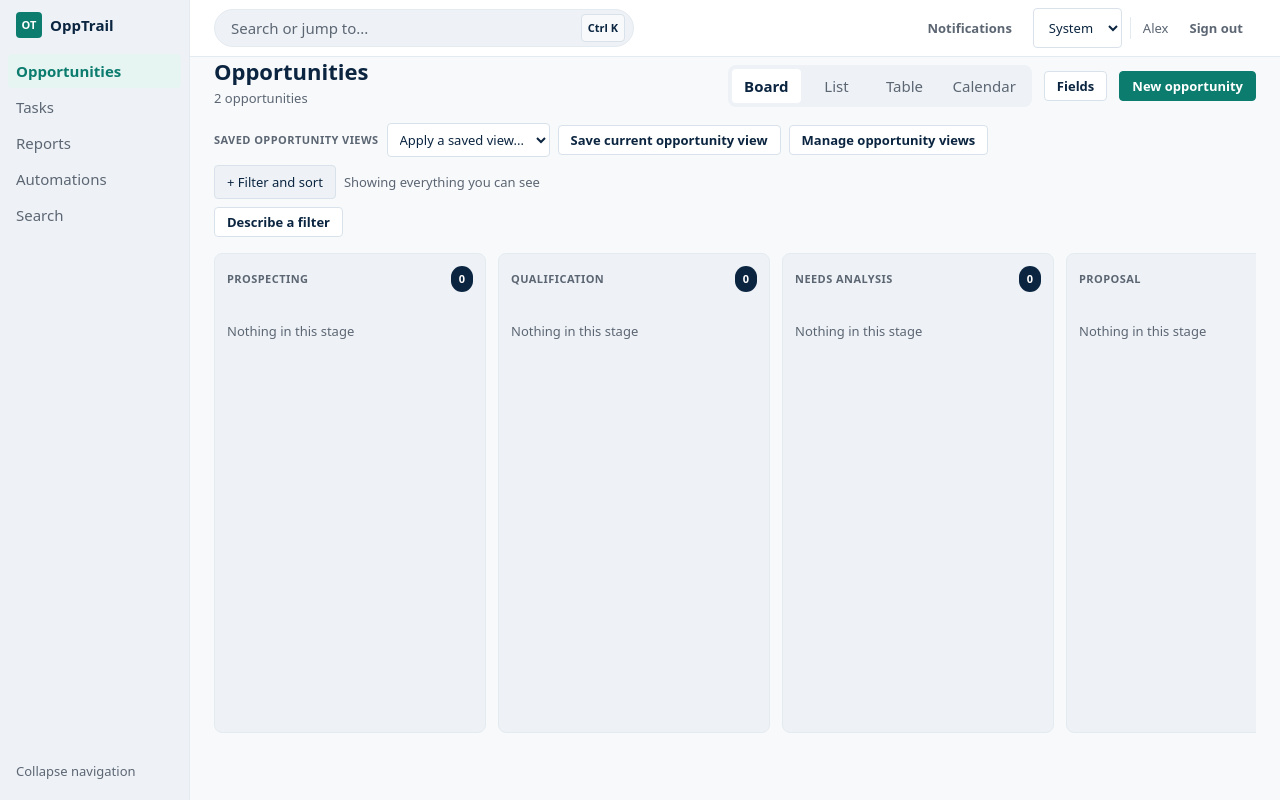
it: every field type is filterable from the board (R.1) › offers a text box for a text field and a yes/no for a checkbox
The image size is (1280, 800).
Check: the heading "Opportunities" is shown, box left=214, top=57, right=368, bottom=85
Click the button "+ Filter and sort": {"x": 275, "y": 182} left=214, top=165, right=336, bottom=199
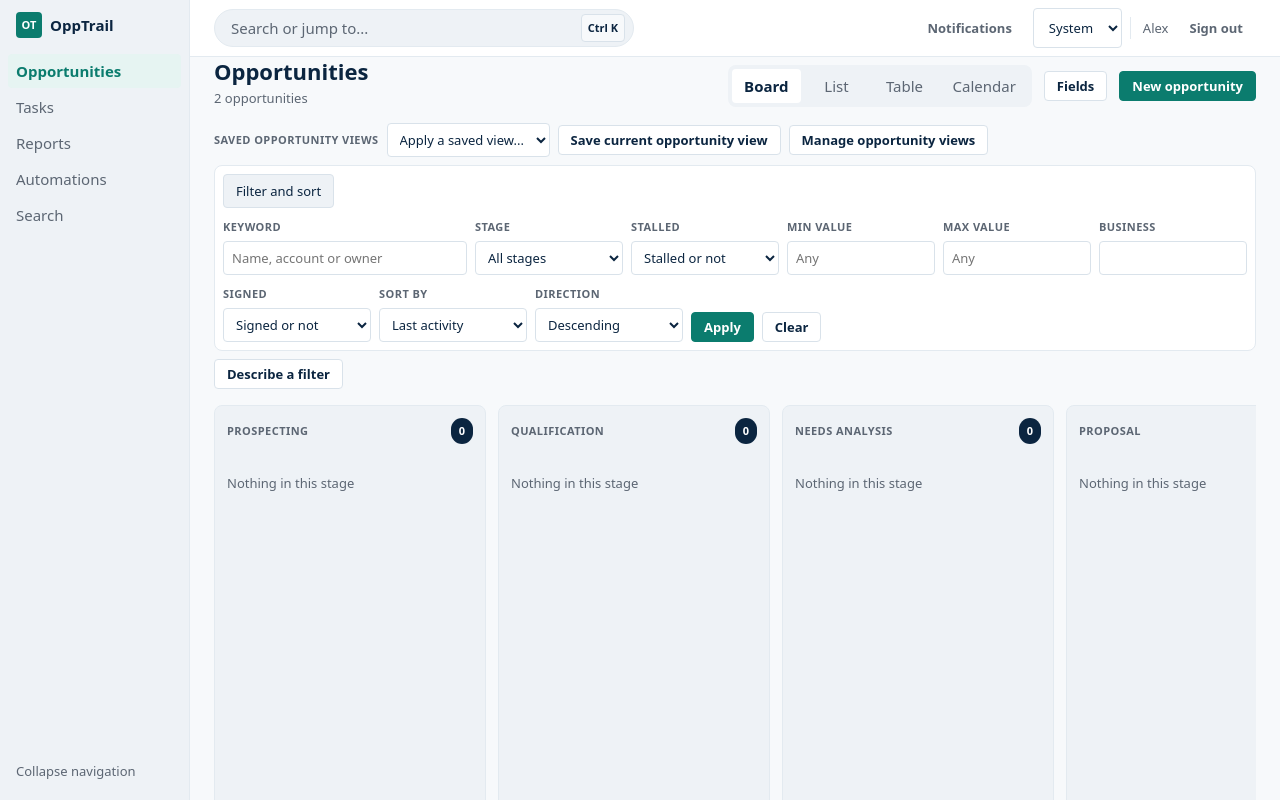
Check: the field named "Filter opportunities by keyword" is shown, box left=223, top=241, right=467, bottom=275
In the field named "Filter by Business": {"x": 1173, "y": 258} left=1099, top=241, right=1247, bottom=275, type "ctcs"
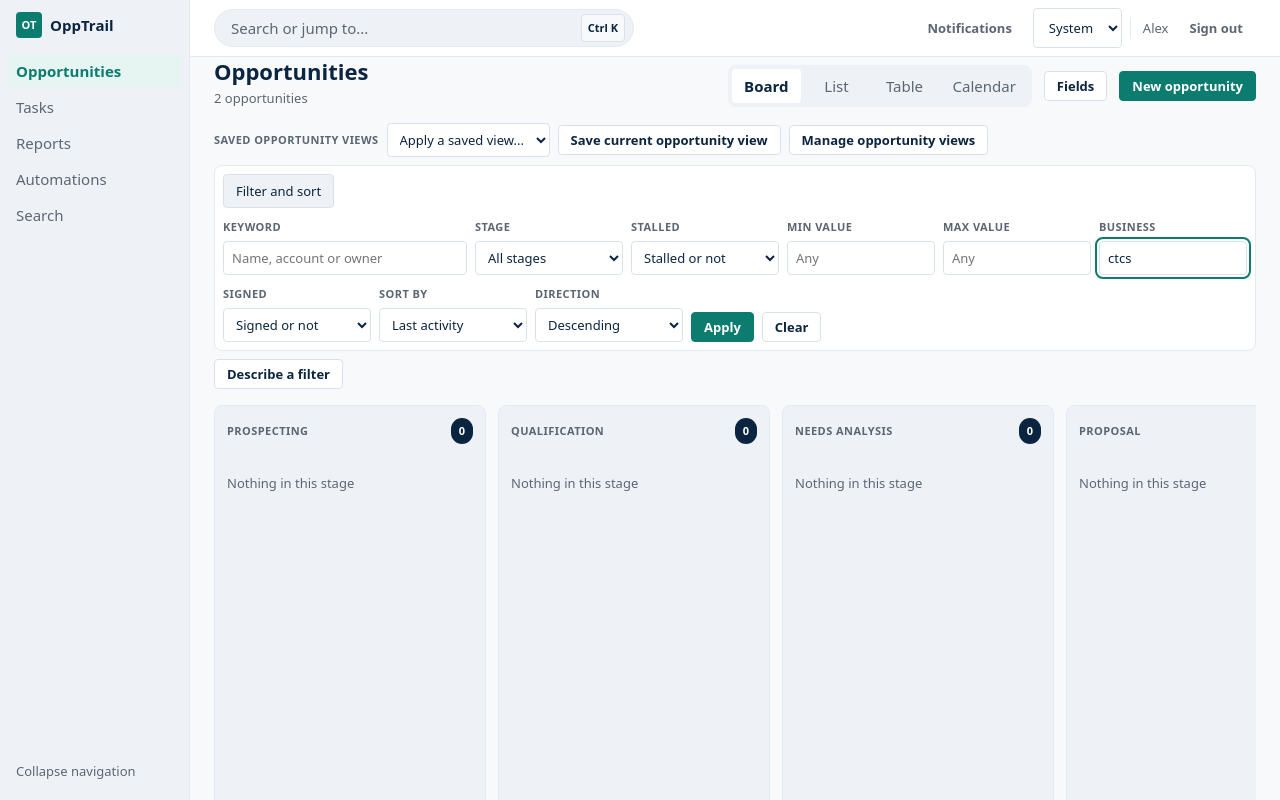
Select "Yes" in the dropdown named "Filter by Signed": {"x": 297, "y": 325} left=223, top=308, right=371, bottom=342
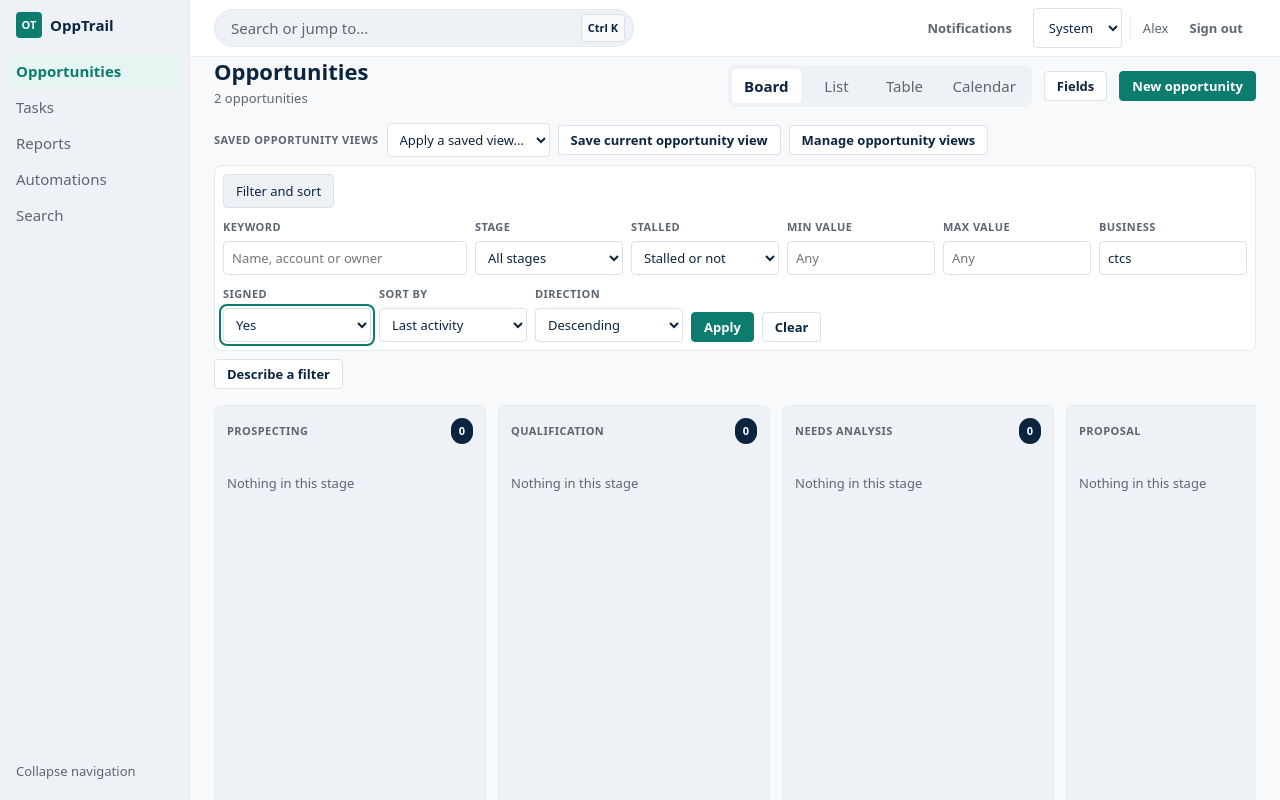
Click the button "Apply": {"x": 722, "y": 327} left=691, top=312, right=754, bottom=342
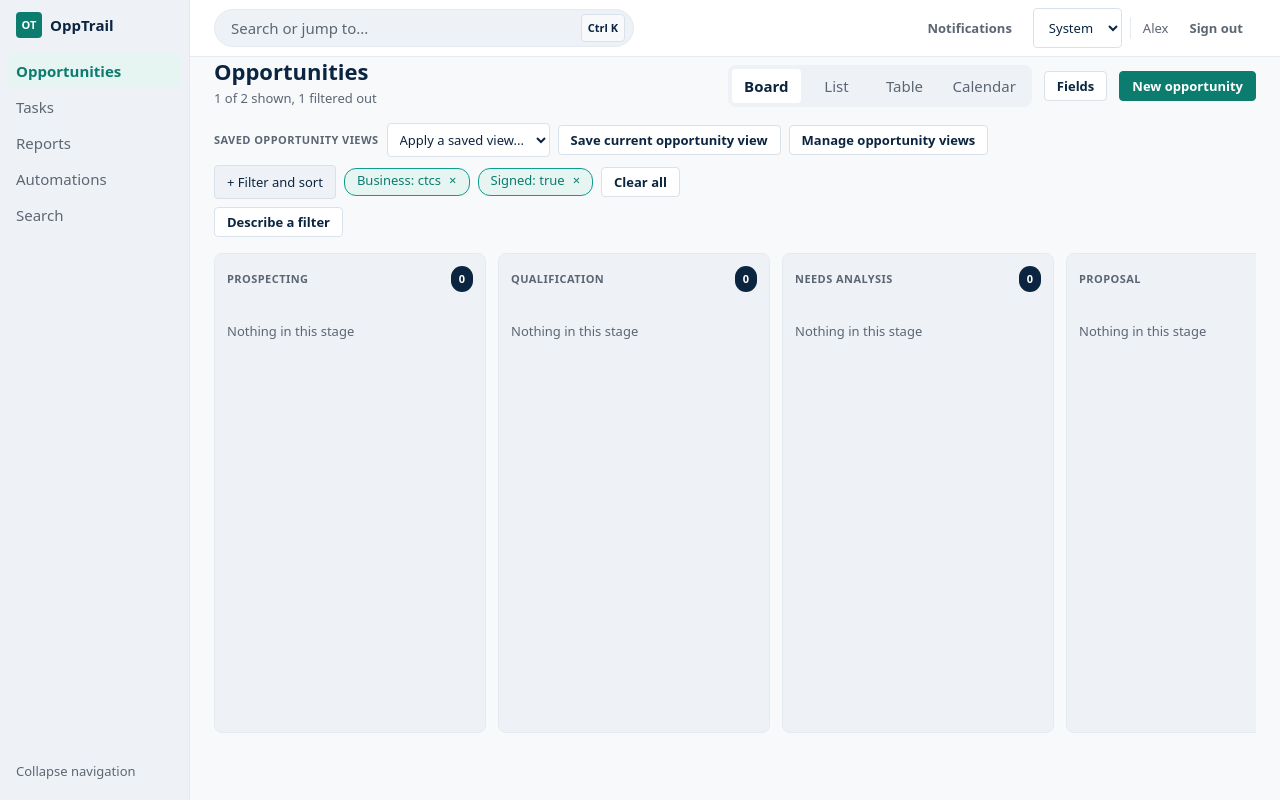
Check: the button "Business: ctcs ×" is shown, box left=344, top=168, right=470, bottom=196
Check: the button "Signed: true ×" is shown, box left=478, top=168, right=593, bottom=196
